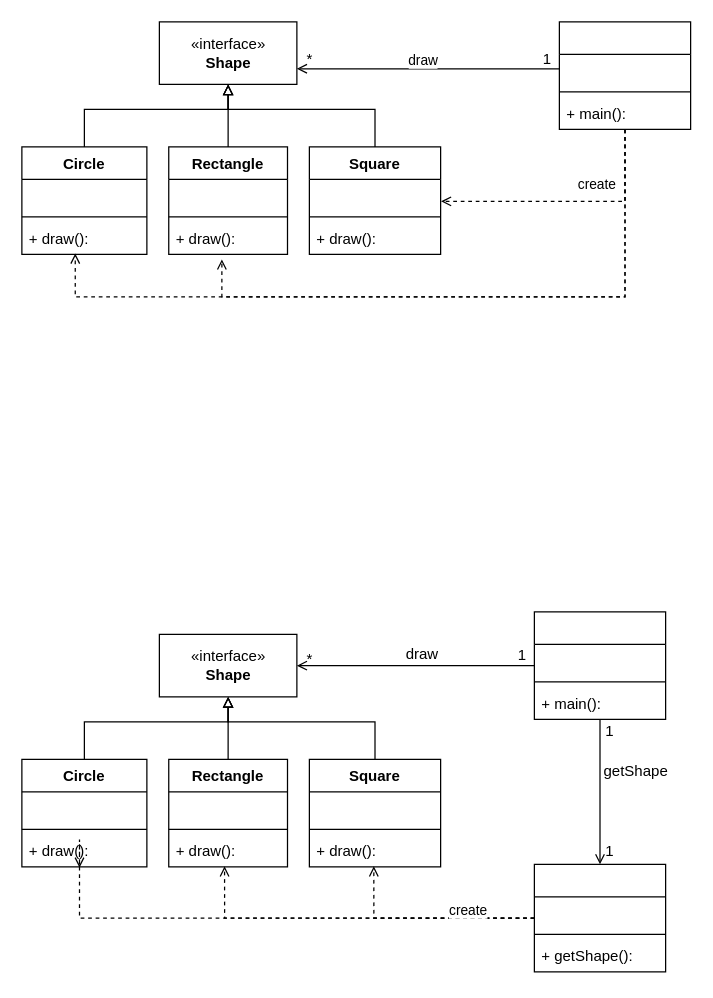
This 713x998 diagram has some shape labels left out. The box of each missing label's shape, as (x1, y1, x2, y2) in pixels:
FactoryDemo: (533, 611, 666, 719)
ShapeDemo: (558, 21, 691, 129)
ShapeFactory: (533, 863, 666, 972)
